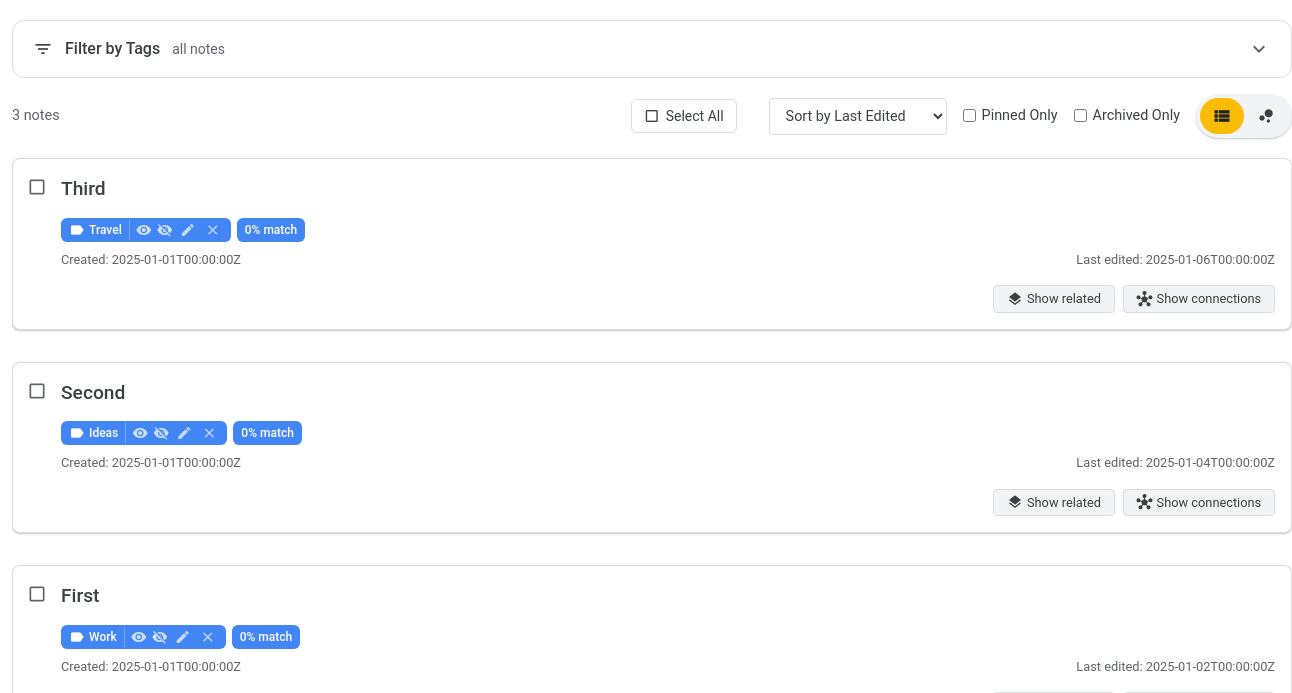
Test: Notes › tag merge from filter › shows merge only after selecting more than one tag
The image size is (1292, 693).
Click the text "Filter by Tags" at (113, 49), box [65,37,160,61]
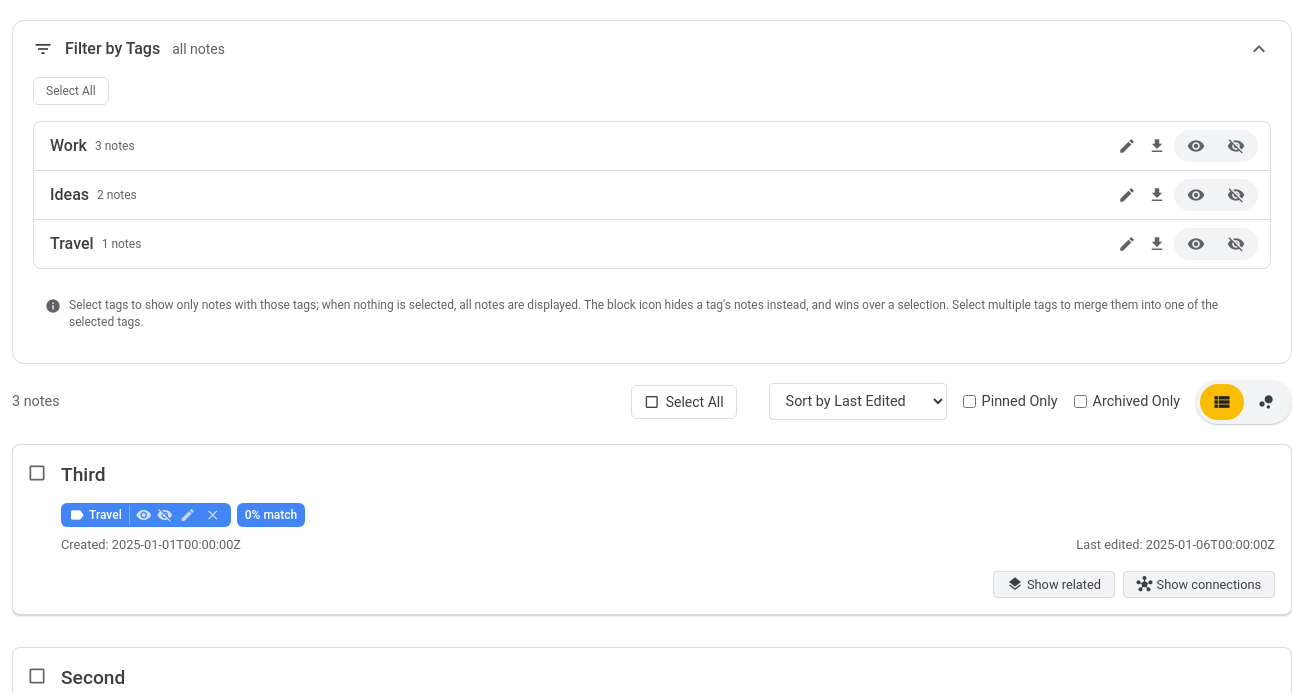
Expected: the button "Merge Selected" is not shown
Click the button named "Show only notes tagged \"Work\"" at (1196, 146), box [1177,133,1215,159]
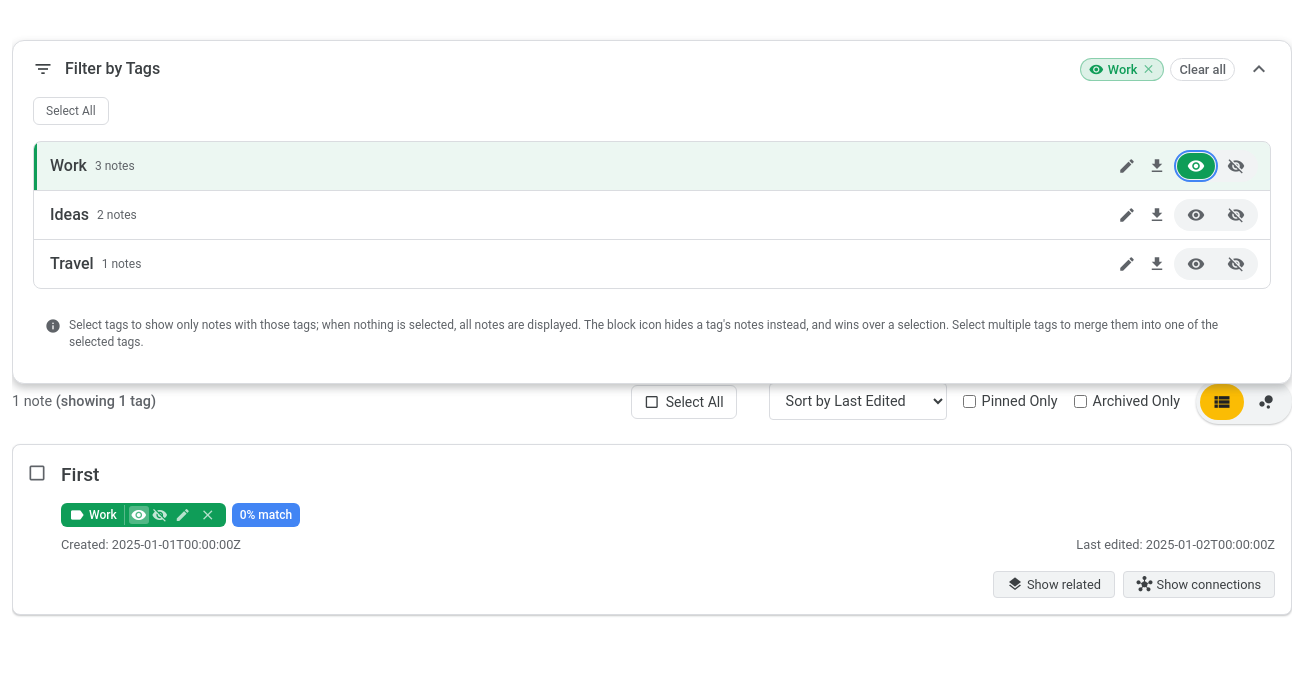
Expected: the button "Merge Selected" is not shown
Click the button named "Show only notes tagged \"Ideas\"" at (1196, 215), box [1177,202,1215,228]
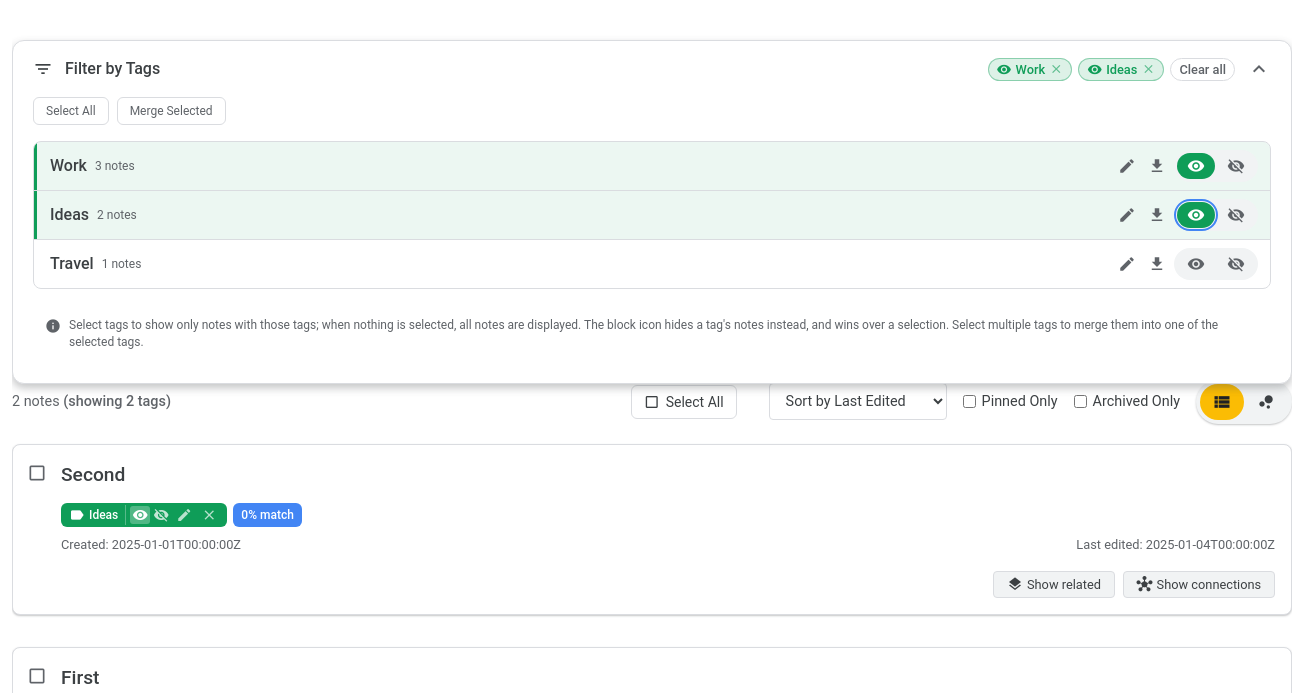
Now the button "Merge Selected" is shown, box [117,97,226,125]
